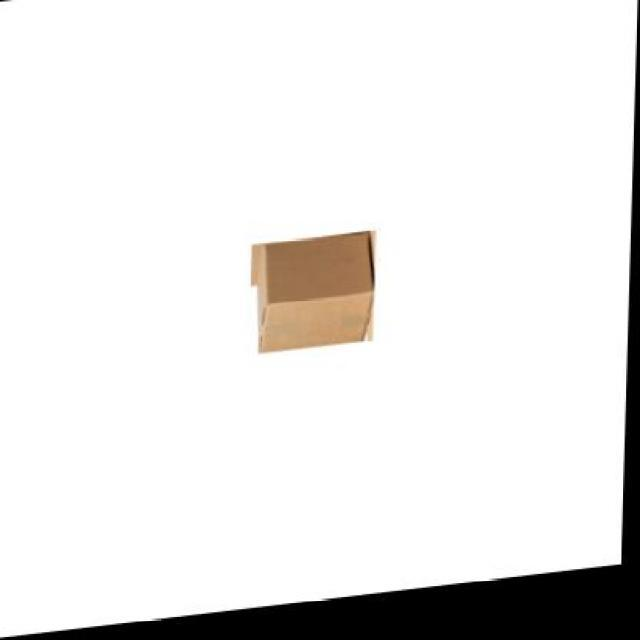box: (255, 242, 375, 358)
